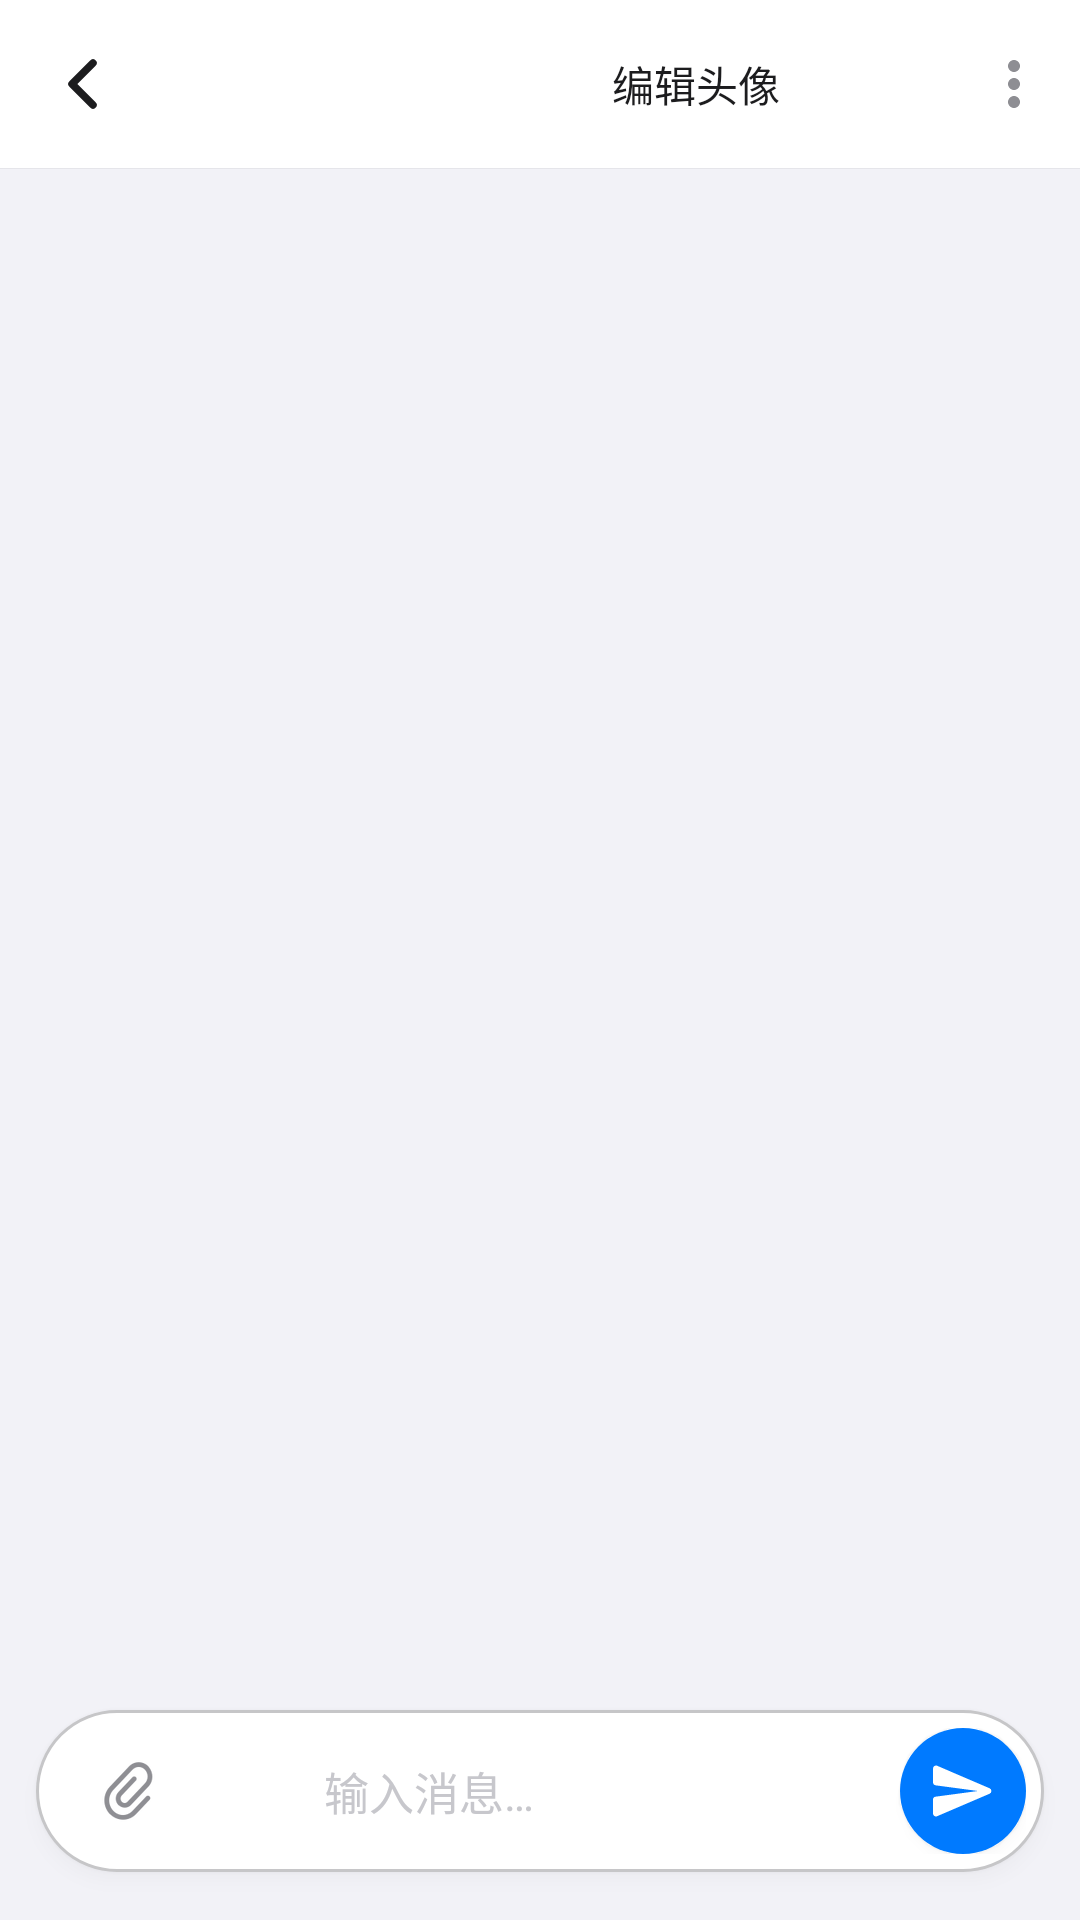

Screen size 1080*1920. Icon name, then its box in pixels as {"x1": x1, "y1": y1, "x2": x2, "y2": y2}:
发送: {"x1": 900, "y1": 1728, "x2": 1026, "y2": 1854}
附件: {"x1": 104, "y1": 1762, "x2": 153, "y2": 1820}
